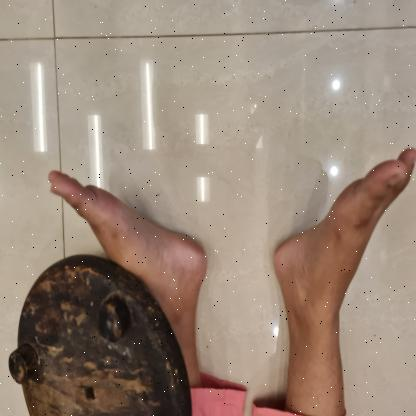leg: (269, 140, 416, 416), (41, 153, 209, 387)
